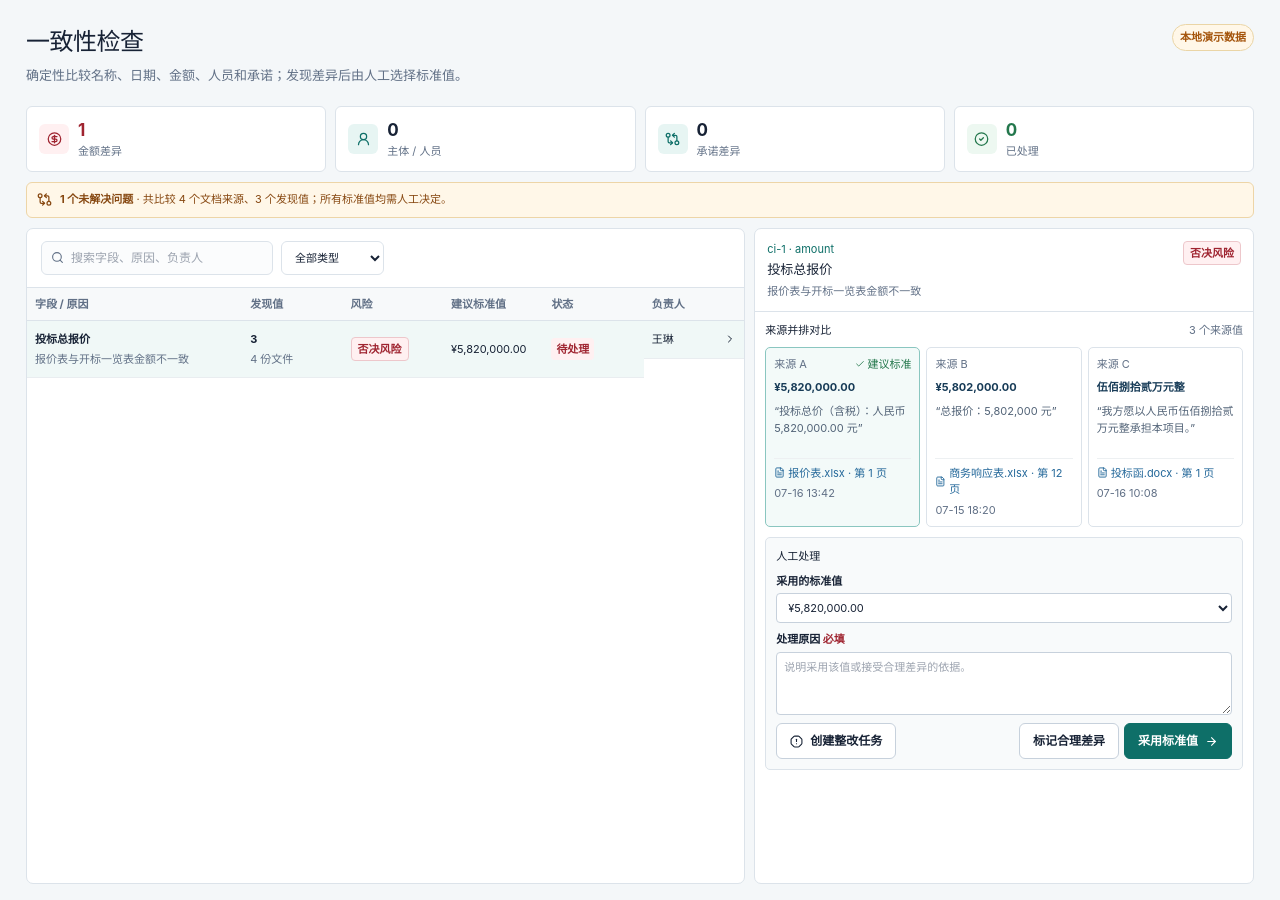
it: Phase 3-5 workbenches › requires a reason before adopting a consistency standard
Click the button "采用标准值" at (1178, 741), box [1124,723,1232,759]
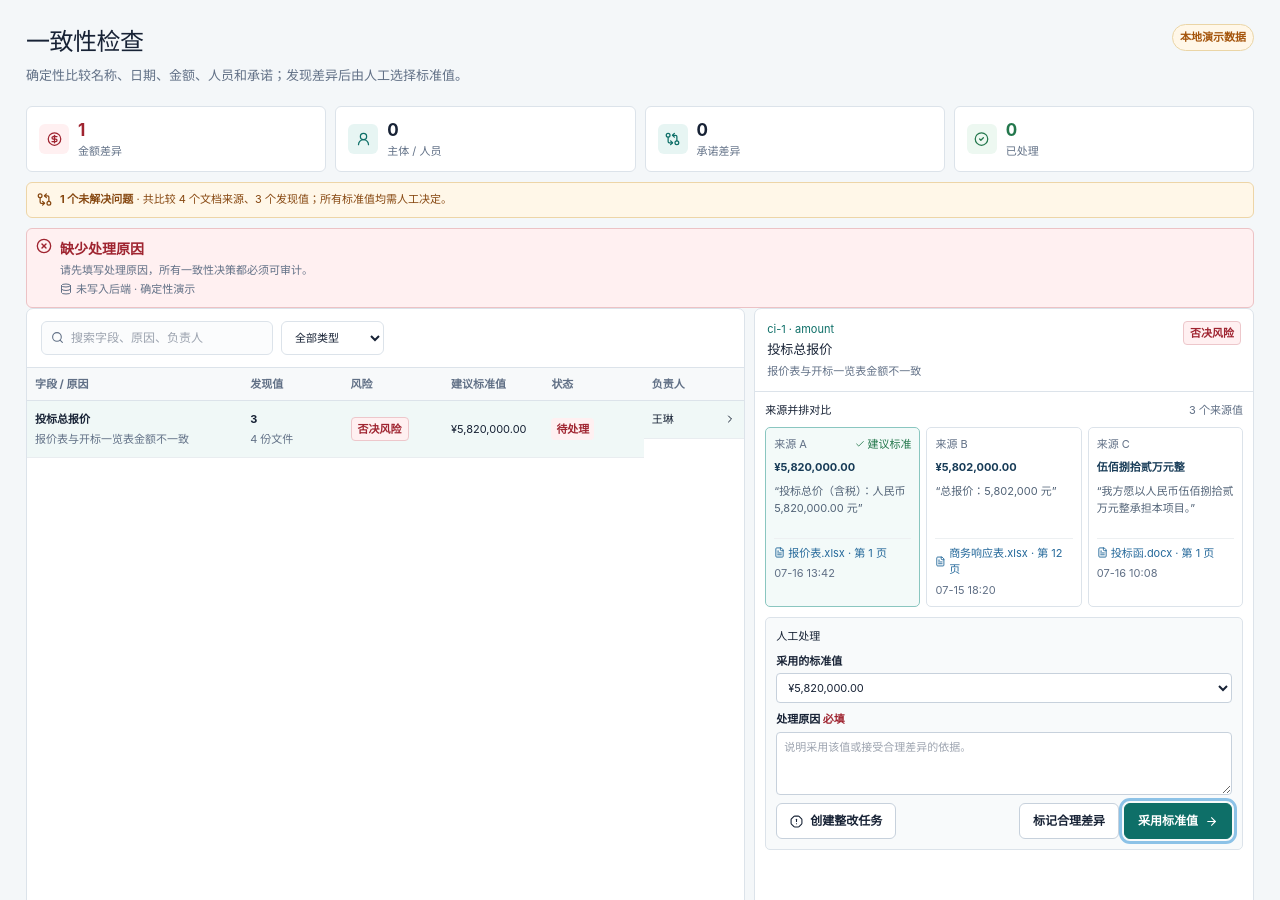
Result: the message shows "请先填写处理原因" at [60,262,313,276]
Type "已由商务负责人复核报价表原件" into the text box with placeholder "说明采用该值或接受合理差异的依据。" at (1004, 763), box [776,732,1232,795]
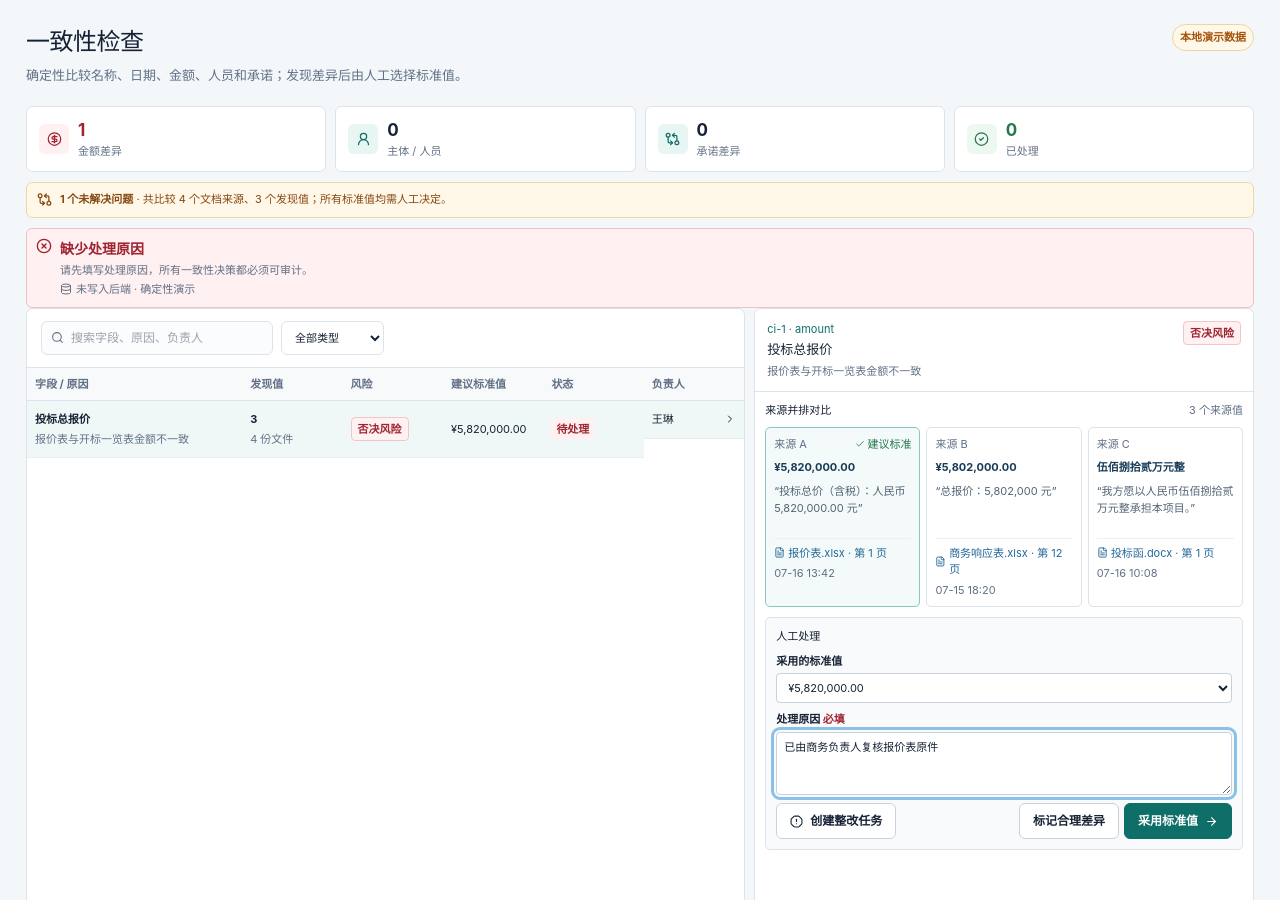
Click the button "采用标准值" at (1178, 821), box [1124,803,1232,839]
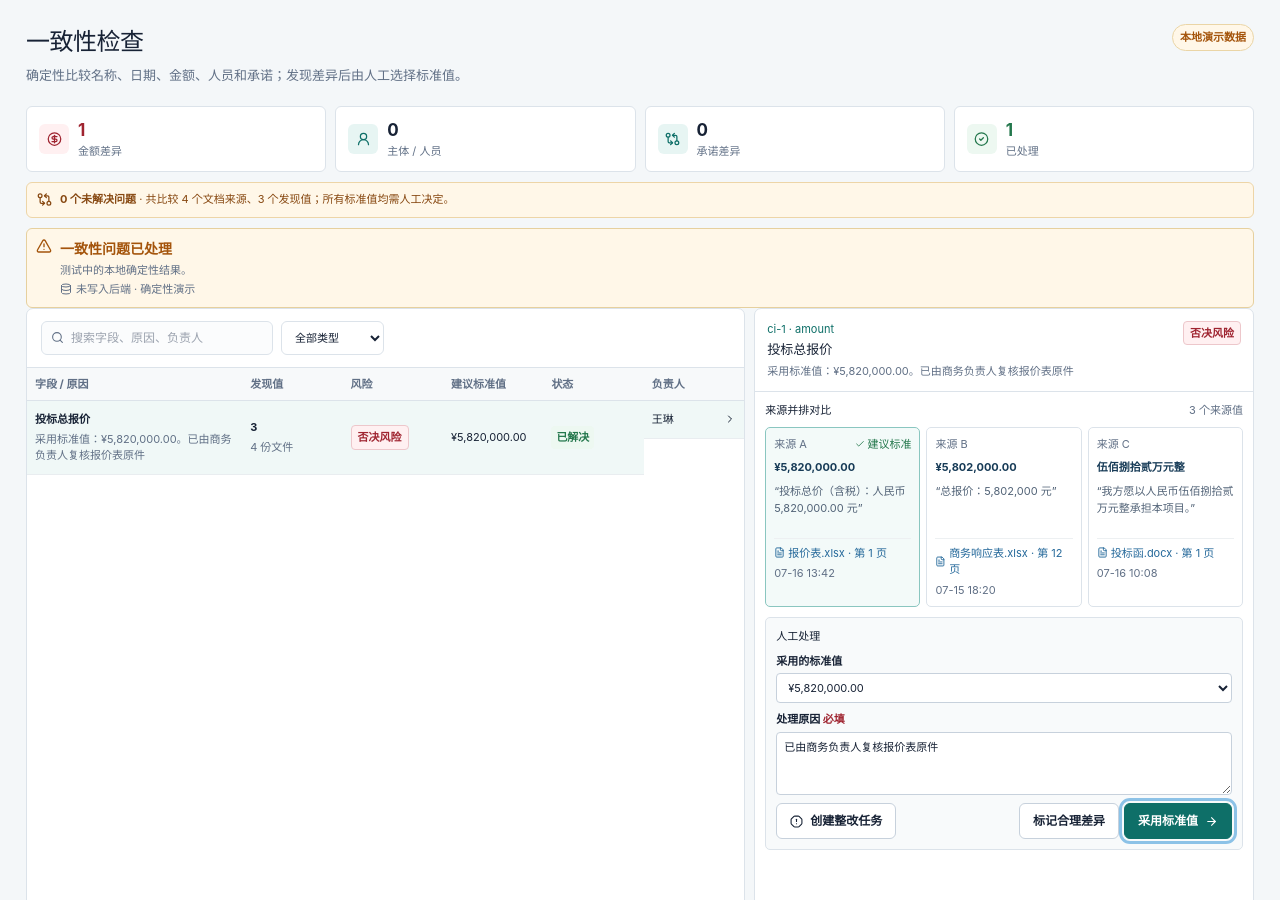
Result: the text "已解决" is shown at [551,426,594,448]
